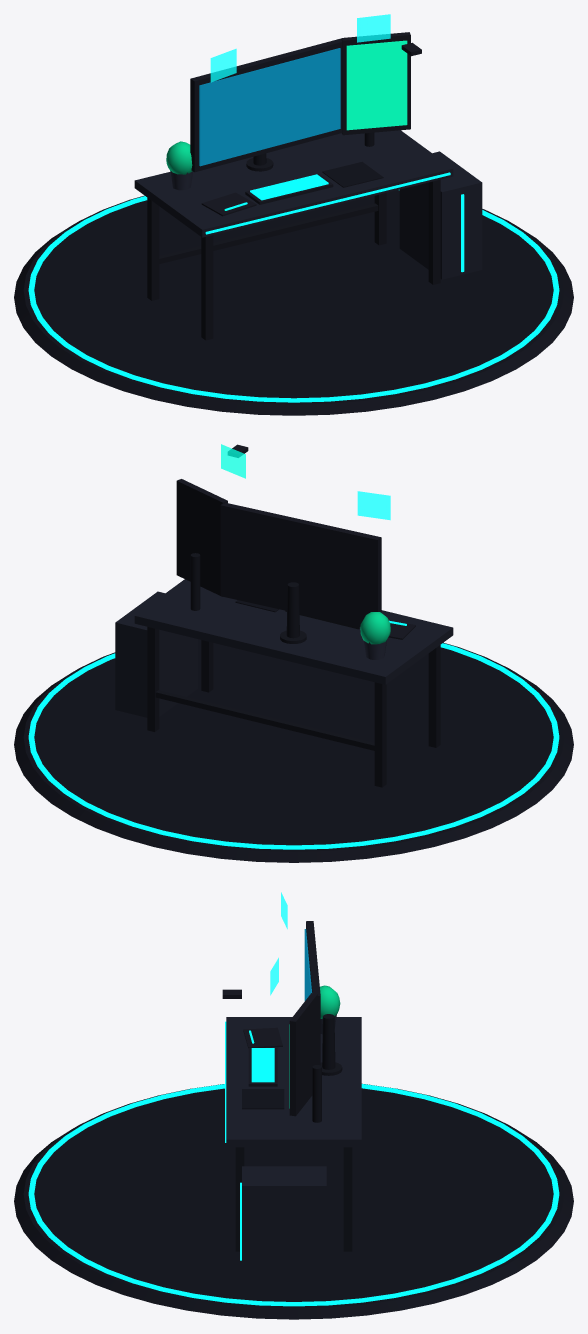
The model's file is services-environment.glb.
3 renders of one model, top to bottom at view 1: azimuth 30°, elevation 25°; view 2: azimuth 150°, elevation 25°; view 3: azimuth 270°, elevation 25°, orthographic.
Visible parts, largest first — view 1: ServicesEnvironment, WorkstationDesk, MainDisplayScreen, WorkstationTower, DisplaySetup, SecondaryDisplayScreen, Peripherals, CyberPlant, HoloTile02, HoloTile01; view 2: ServicesEnvironment, DisplaySetup, WorkstationDesk, WorkstationTower, CyberPlant, Peripherals, HoloTile01, HoloTile02; view 3: ServicesEnvironment, WorkstationDesk, WorkstationTower, DisplaySetup, Peripherals, CyberPlant.
Part boxes in pixels (bbox=[...]): ServicesEnvironment: bbox=[14, 189, 573, 415]; WorkstationDesk: bbox=[134, 130, 453, 340]; MainDisplayScreen: bbox=[199, 48, 340, 166]; WorkstationTower: bbox=[399, 151, 482, 279]; DisplaySetup: bbox=[190, 32, 410, 172]; SecondaryDisplayScreen: bbox=[346, 40, 407, 130]; Peripherals: bbox=[201, 42, 421, 216]; CyberPlant: bbox=[166, 141, 193, 190]; HoloTile02: bbox=[357, 14, 390, 42]; HoloTile01: bbox=[210, 48, 236, 82]; ServicesEnvironment: bbox=[14, 639, 573, 862]; DisplaySetup: bbox=[176, 479, 381, 643]; WorkstationDesk: bbox=[134, 579, 453, 787]; WorkstationTower: bbox=[115, 591, 197, 717]; CyberPlant: bbox=[360, 612, 390, 659]; Peripherals: bbox=[228, 444, 415, 639]; HoloTile01: bbox=[357, 491, 390, 520]; HoloTile02: bbox=[221, 444, 245, 478]; ServicesEnvironment: bbox=[14, 1083, 573, 1319]; WorkstationDesk: bbox=[225, 1017, 361, 1251]; WorkstationTower: bbox=[240, 1166, 326, 1273]; DisplaySetup: bbox=[289, 921, 342, 1122]; Peripherals: bbox=[222, 989, 284, 1109]; CyberPlant: bbox=[320, 985, 340, 1034].
Size of the model in its own units: 2.9 by 1.55 by 2.9.
